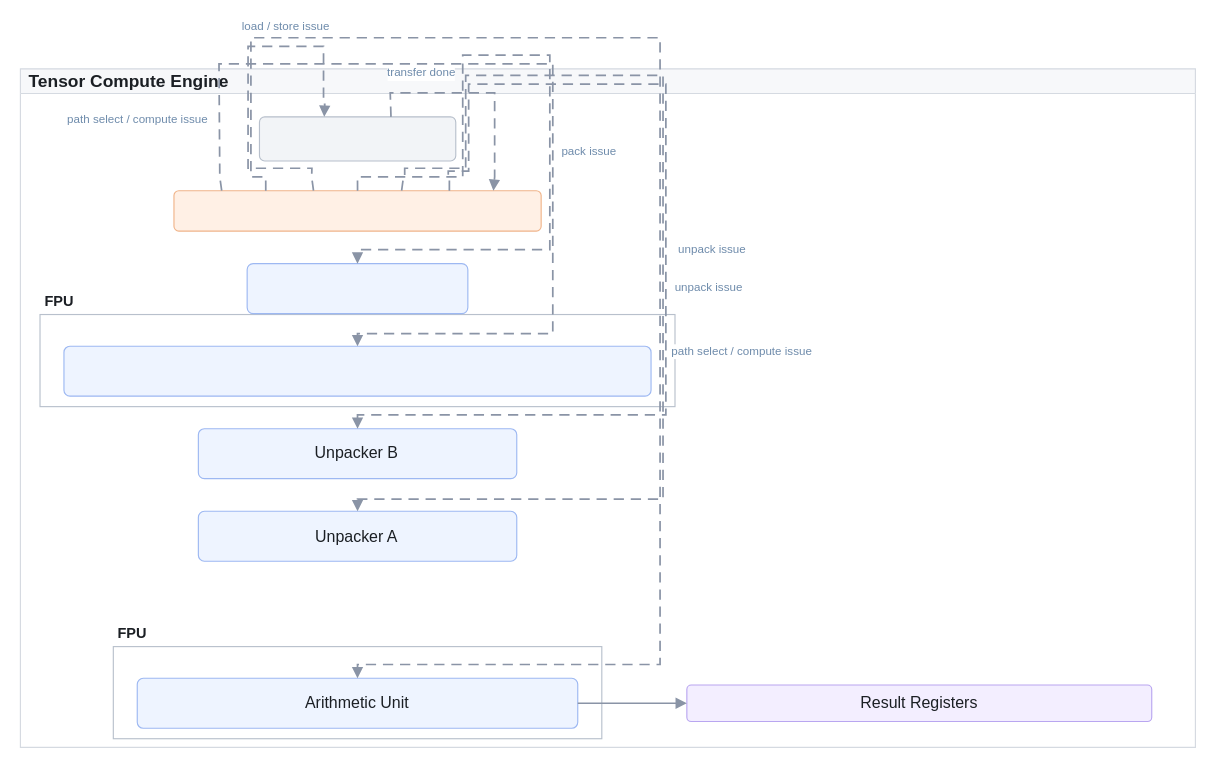
The diagram is 1215 pixels wide and 767 high, and some of its shapes have lost their labels. Here are the shapes that lost their labels. From the top down, the box of each, then its label:
(258, 116, 456, 161): DMA
(173, 190, 541, 231): Control Unit
(246, 263, 468, 314): Packer
(63, 345, 651, 396): Special Function Unit
